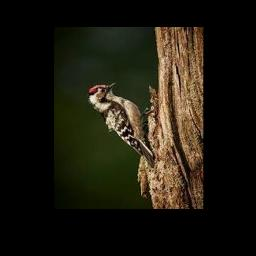Woodpecker: (87, 82, 154, 166)
